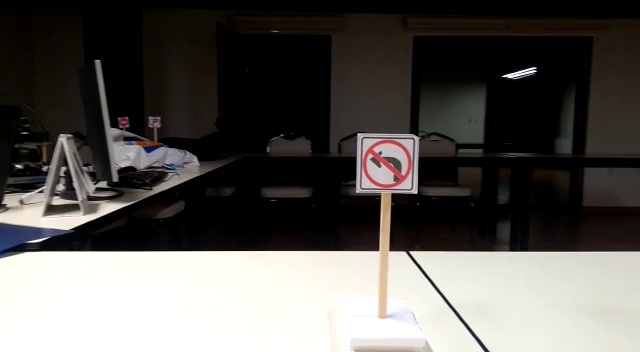sola_donulmez: (364, 136, 418, 190)
